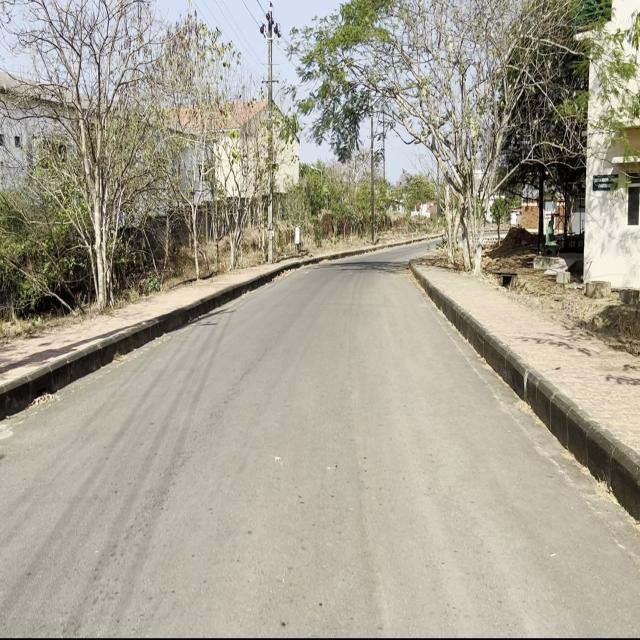Road: (4, 251, 637, 633)
